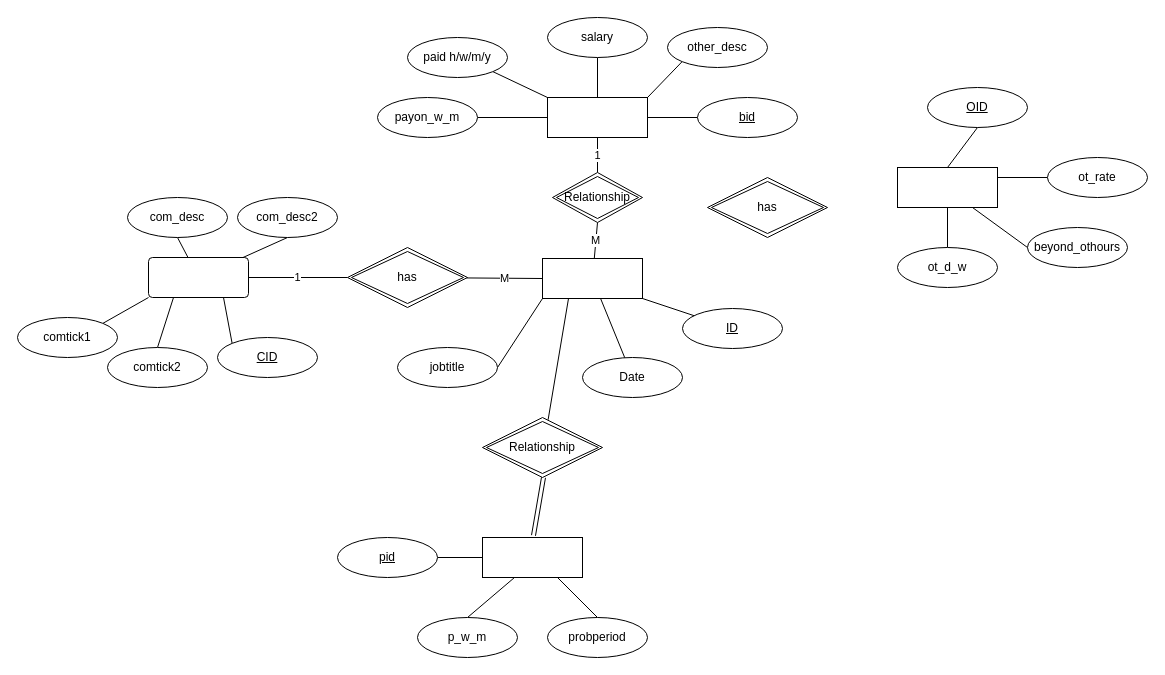
Image size: 1165x675. Some labels were removed from this diagram. The box of each missing label's shape, as (x1, y1, x2, y2) in pixels:
agreement: (542, 258, 642, 298)
basic salary: (546, 96, 648, 138)
compensation: (148, 256, 248, 298)
overtime: (896, 166, 998, 208)
Probation: (482, 536, 582, 578)
